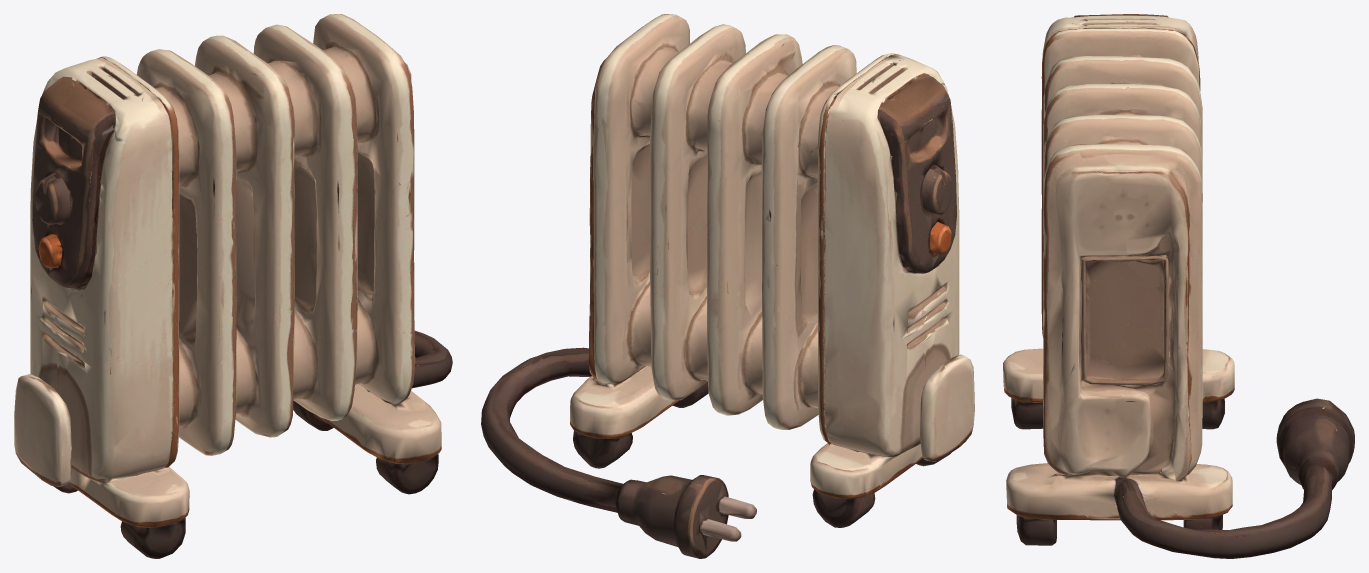
Rendered from heater.glb.
3 renders of one model, left to right at view 1: azimuth 30°, elevation 25°; view 2: azimuth 150°, elevation 25°; view 3: azimuth 270°, elevation 25°, orthographic. The views are drawn at different scales.
Bounding box in the file's own units: 1.9 × 1.84 × 1.4.
1 material, 1 textured.
